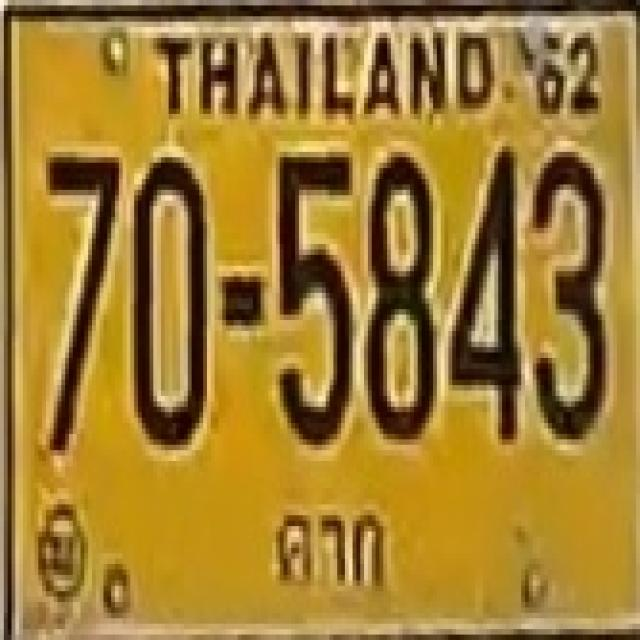0: (130, 155, 203, 442)
3: (529, 146, 602, 434)
4: (448, 144, 518, 436)
5: (276, 149, 349, 442)
7: (42, 152, 119, 439)
8: (364, 152, 433, 434)
TAK: (256, 499, 410, 608)
